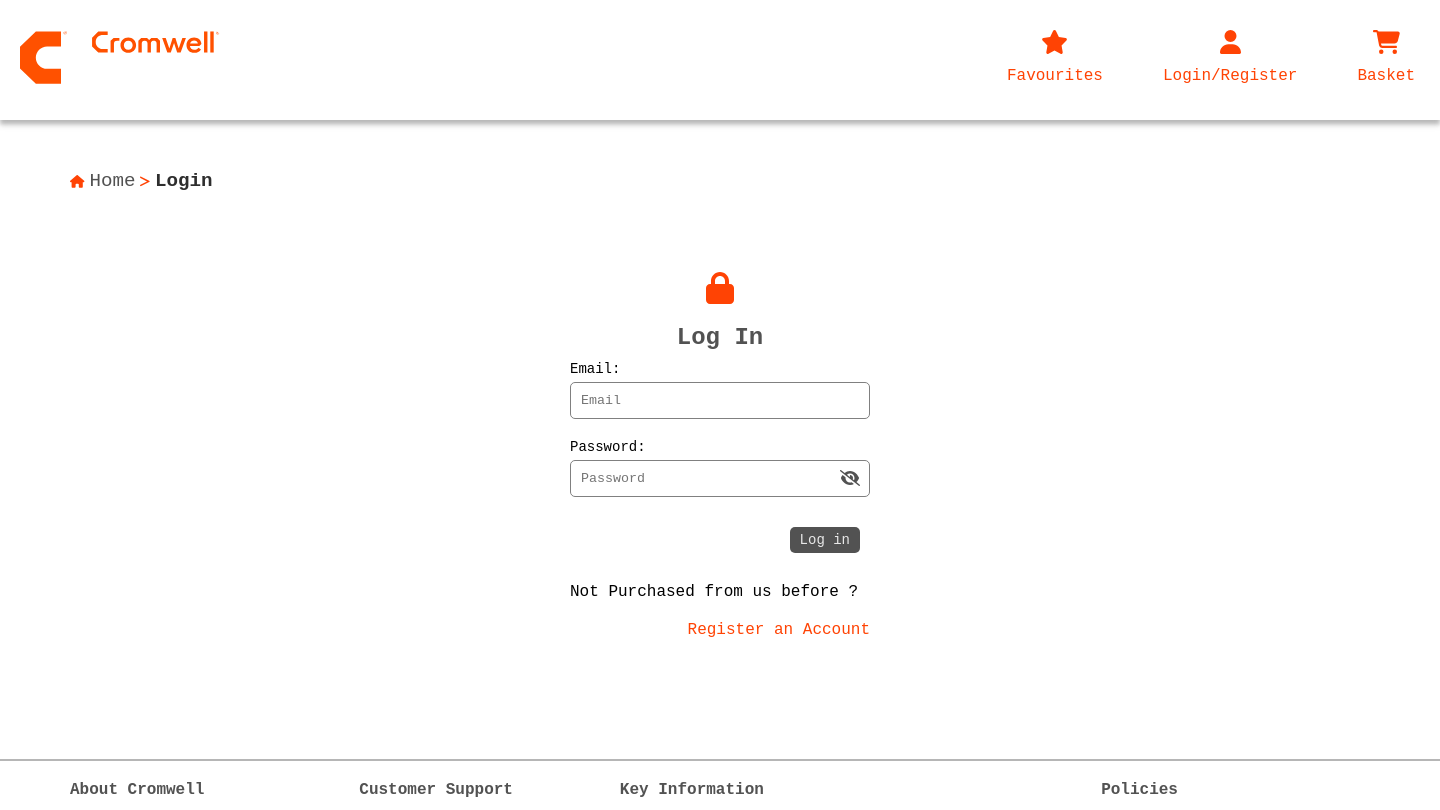
Scenario: Login Component › displays error message for invalid form submission
The width and height of the screenshot is (1440, 810).
In the field with placeholder "Email": (720, 400) [570,382,870,419], type "invalidemail"
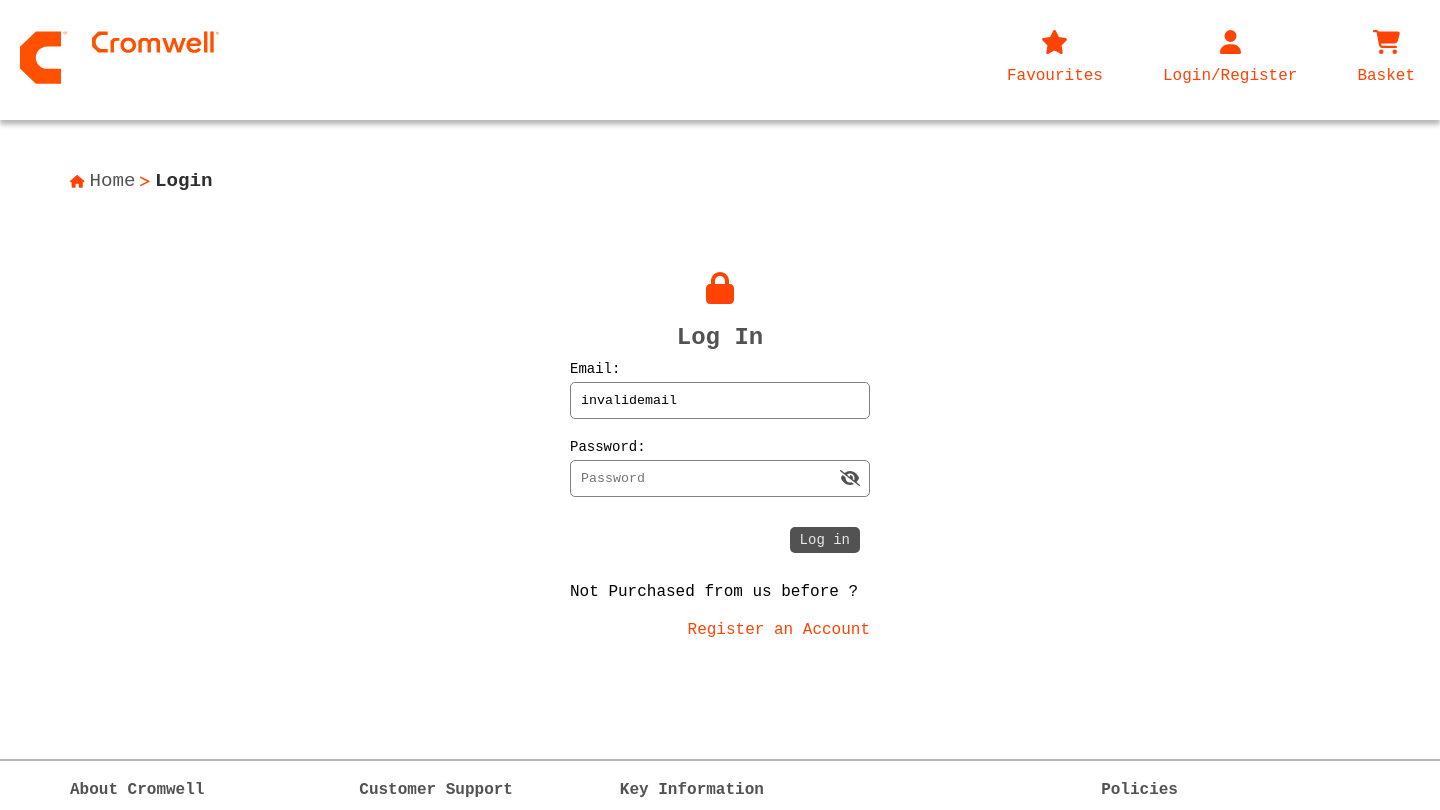
In the password field with placeholder "Password": (720, 478) [570,460,870,497], type "password"
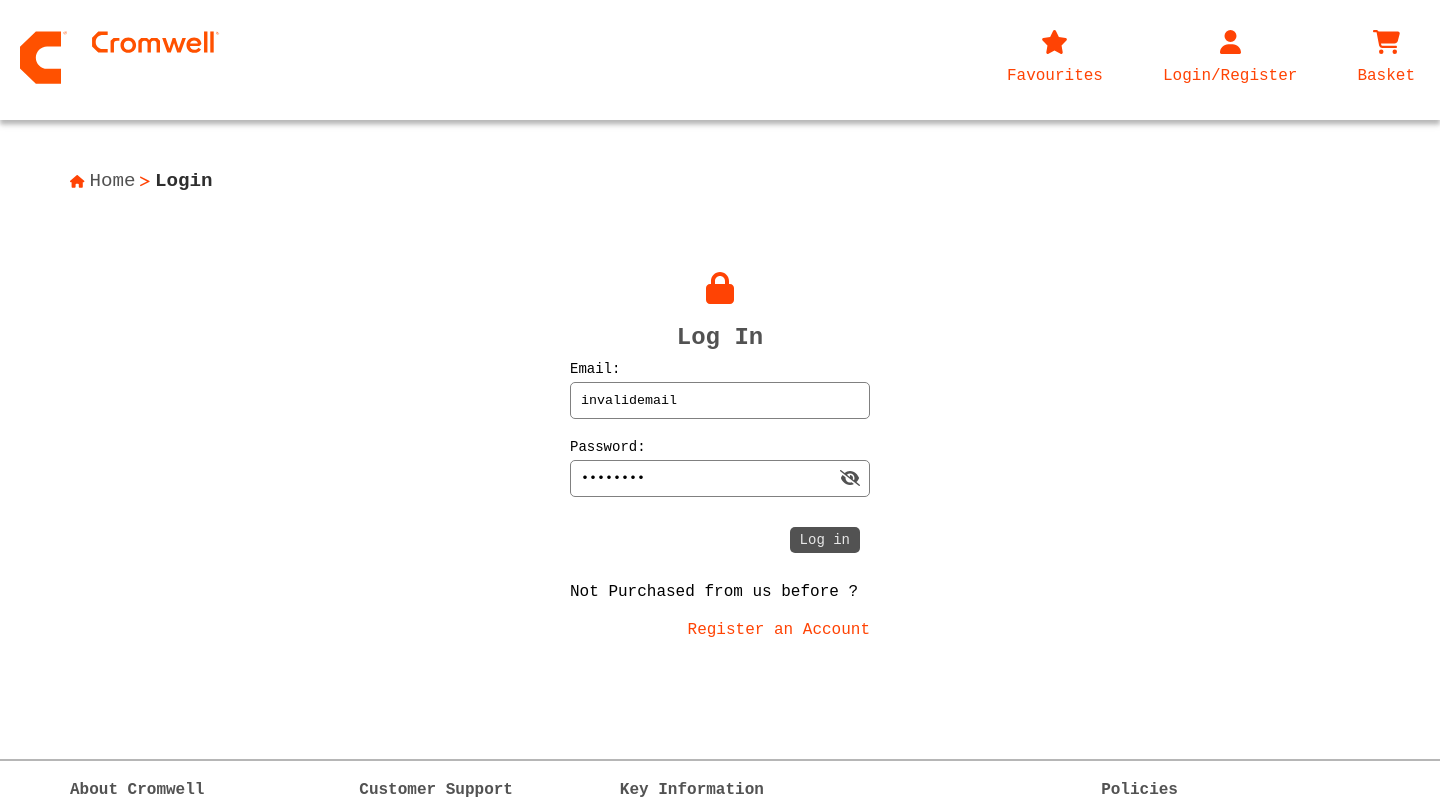
Submit the form from the button "Log in", box [790,527,860,553]
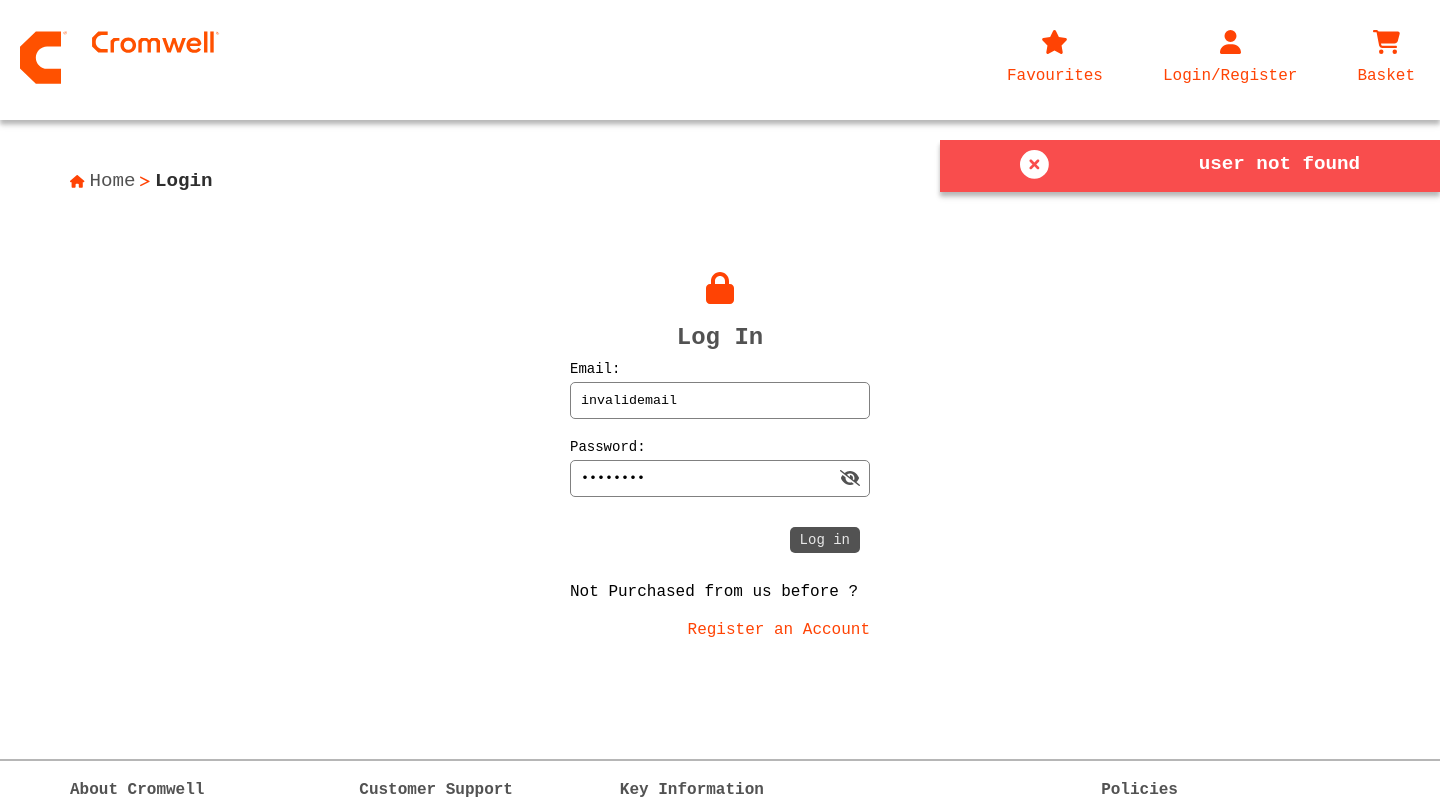
Expected: the text "user not found" is shown, [1199,153,1360,175]
